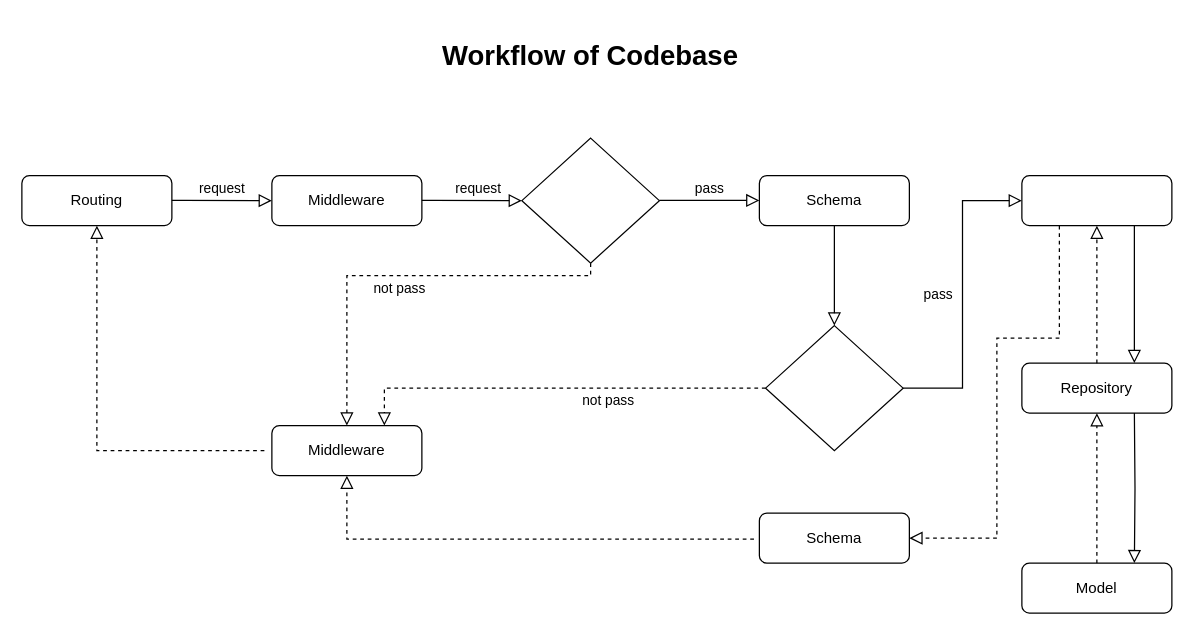
This 1194x635 diagram has some shape labels left out. The centre of each missing label's shape, as x and y in pixels:
Logic: [1096,200]
Validate query param/body: [833,387]
Validate req header: [590,200]
